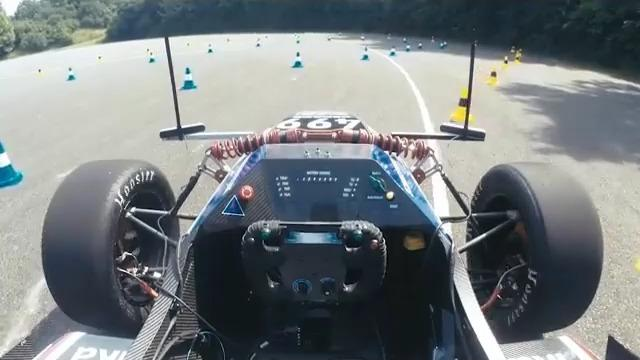blue_cone: (0, 137, 25, 188), (179, 67, 198, 91), (292, 51, 304, 69), (361, 46, 371, 62), (67, 67, 77, 82)
yellow_cone: (449, 88, 477, 124), (484, 65, 501, 86)
